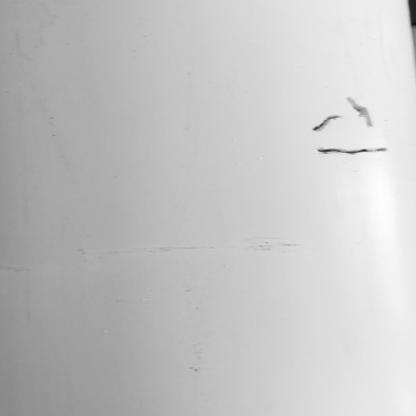fengxi: (345, 95, 375, 127), (315, 145, 389, 156), (311, 114, 340, 134)
